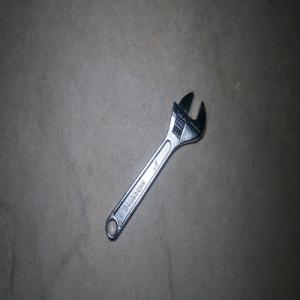Wrench: (105, 91, 205, 240)
